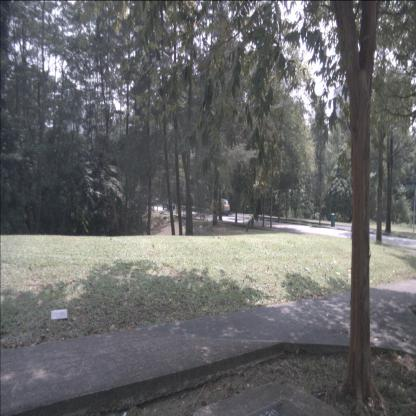vehicle-car: (212, 198, 230, 217), (163, 200, 175, 211)
